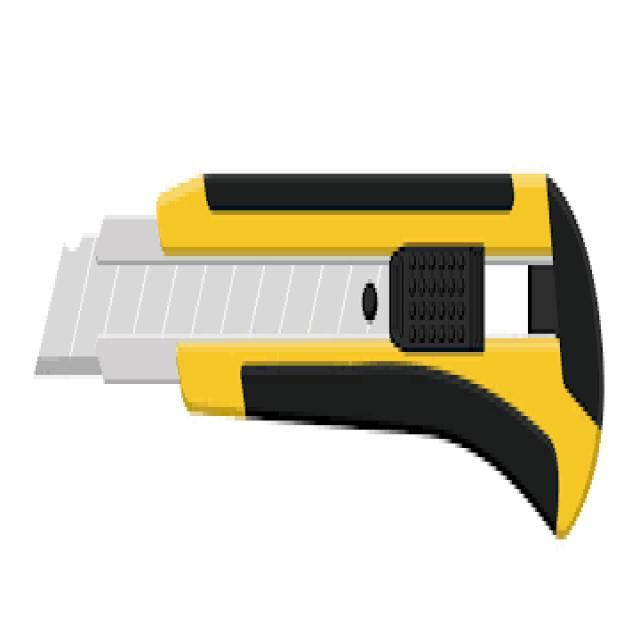cutter: (26, 141, 608, 556)
